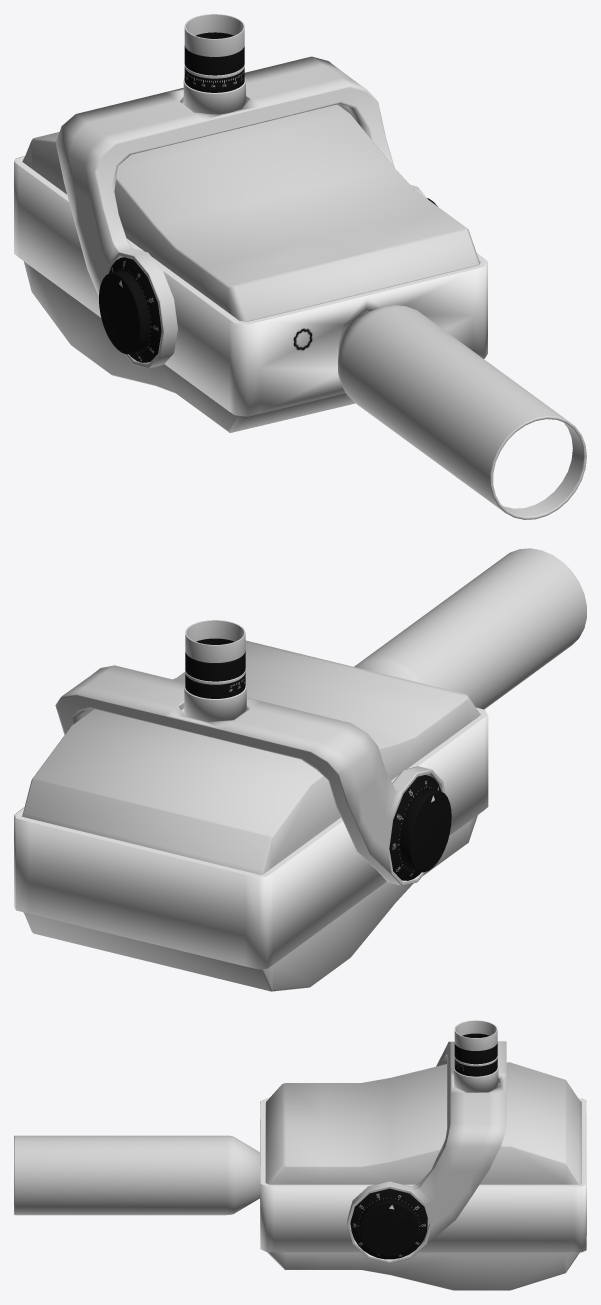
The model's file is x_ray.gltf.
The picture shows the model from 3 angles, top to bottom: view 1: azimuth 30°, elevation 25°; view 2: azimuth 150°, elevation 25°; view 3: azimuth 270°, elevation 25°; orthographic projection. The views are drawn at different scales.
Visible parts, largest first — view 1: hainuo_dental_xray_unit_fixer7, hainuo_dental_xray_unit_fixer10, hainuo_dental_xray_unit_fixer11, hainuo_dental_xray_unit_fixer9, hainuo_dental_xray_unit_regulator2, hainuo_dental_xray_unit_fixer13, hainuo_dental_xray_unit_fixer14, hainuo_dental_xray_unit_fixer13.1; view 2: hainuo_dental_xray_unit_fixer7, hainuo_dental_xray_unit_fixer10, hainuo_dental_xray_unit_fixer11, hainuo_dental_xray_unit_fixer9, hainuo_dental_xray_unit_regulator2, hainuo_dental_xray_unit_fixer13, hainuo_dental_xray_unit_fixer14, hainuo_dental_xray_unit_fixer13.1; view 3: hainuo_dental_xray_unit_fixer7, hainuo_dental_xray_unit_fixer11, hainuo_dental_xray_unit_fixer10, hainuo_dental_xray_unit_fixer9, hainuo_dental_xray_unit_regulator, hainuo_dental_xray_unit_fixer13, hainuo_dental_xray_unit_fixer14, hainuo_dental_xray_unit_fixer13.1.
Boxes of the visible parts, box(x1,y1,x2,y2) form: hainuo_dental_xray_unit_fixer7: box(22, 104, 479, 432); hainuo_dental_xray_unit_fixer10: box(14, 156, 487, 416); hainuo_dental_xray_unit_fixer11: box(338, 305, 586, 519); hainuo_dental_xray_unit_fixer9: box(55, 56, 427, 368); hainuo_dental_xray_unit_regulator2: box(99, 257, 161, 362); hainuo_dental_xray_unit_fixer13: box(184, 32, 244, 92); hainuo_dental_xray_unit_fixer14: box(184, 14, 244, 56); hainuo_dental_xray_unit_fixer13.1: box(183, 64, 245, 114); hainuo_dental_xray_unit_fixer7: box(22, 640, 479, 991); hainuo_dental_xray_unit_fixer10: box(14, 707, 488, 969); hainuo_dental_xray_unit_fixer11: box(354, 548, 586, 709); hainuo_dental_xray_unit_fixer9: box(55, 665, 445, 885); hainuo_dental_xray_unit_regulator2: box(389, 775, 451, 880); hainuo_dental_xray_unit_fixer13: box(185, 638, 245, 698); hainuo_dental_xray_unit_fixer14: box(185, 620, 245, 662); hainuo_dental_xray_unit_fixer13.1: box(184, 669, 246, 721); hainuo_dental_xray_unit_fixer7: box(265, 1062, 581, 1290); hainuo_dental_xray_unit_fixer11: box(14, 1135, 260, 1215); hainuo_dental_xray_unit_fixer10: box(260, 1098, 586, 1252); hainuo_dental_xray_unit_fixer9: box(347, 1041, 506, 1263); hainuo_dental_xray_unit_regulator: box(350, 1188, 427, 1259); hainuo_dental_xray_unit_fixer13: box(454, 1033, 497, 1076); hainuo_dental_xray_unit_fixer14: box(454, 1020, 497, 1050); hainuo_dental_xray_unit_fixer13.1: box(453, 1056, 498, 1092).
Bounding box in the file's own units: 16.83 × 15.86 × 37.5.
Materials: 3 (2 with a texture image).
